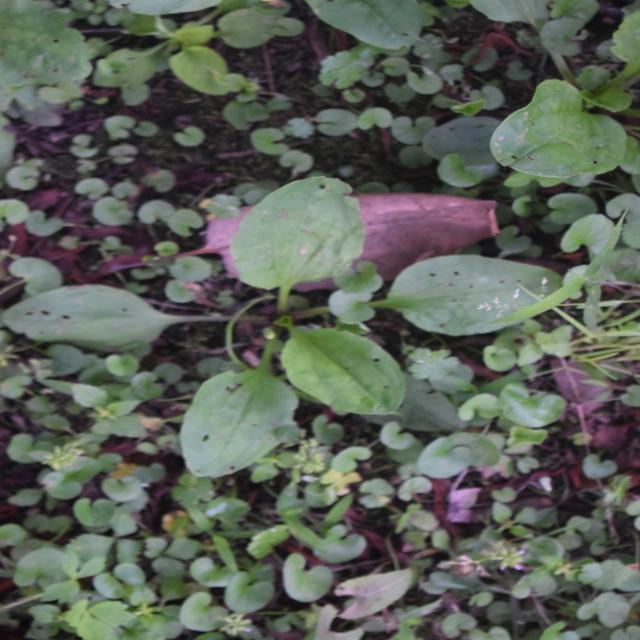plantain: (176, 40, 450, 541)
